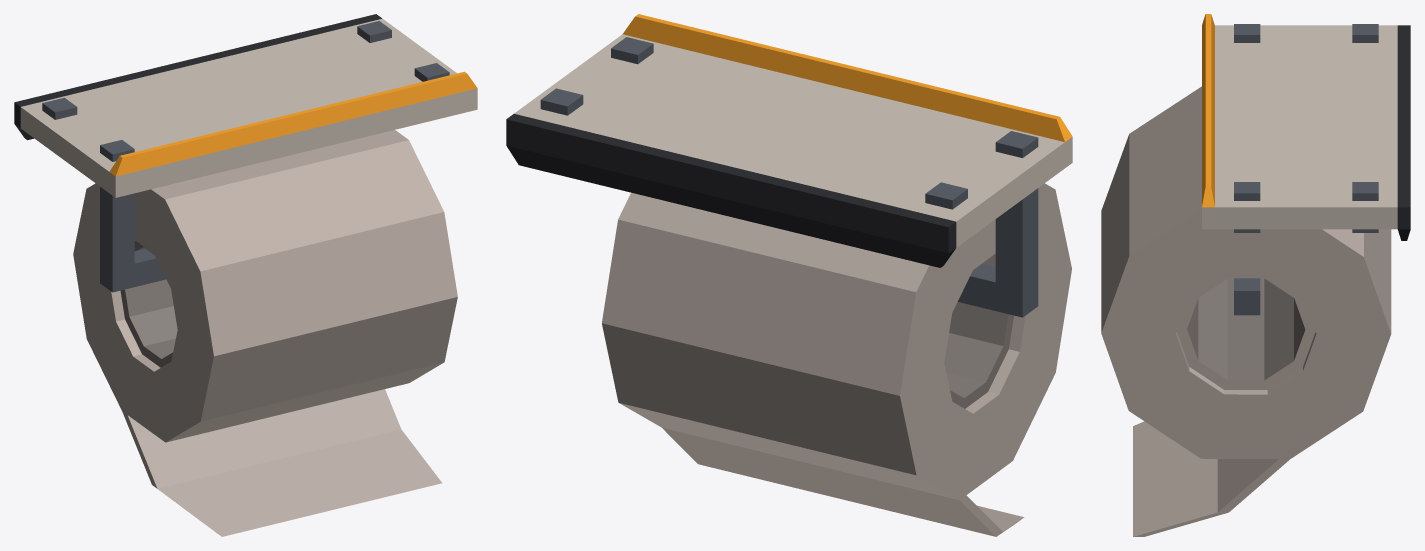
File: SM_Toilet_Paper_Holder.glb
3 renders of one model, left to right at view 1: azimuth 30°, elevation 25°; view 2: azimuth 150°, elevation 25°; view 3: azimuth 270°, elevation 25°, orthographic. The views are drawn at different scales.
Visible parts, largest first — view 1: SM_Toilet_Paper_Holder; view 2: SM_Toilet_Paper_Holder; view 3: SM_Toilet_Paper_Holder.
Boxes of the visible parts, box(x1,y1,x2,y2) form: SM_Toilet_Paper_Holder: box(14, 14, 477, 536); SM_Toilet_Paper_Holder: box(506, 14, 1072, 536); SM_Toilet_Paper_Holder: box(1101, 14, 1410, 536).
Bounding box in the file's own units: 0.1634 × 0.1591 × 0.1175.
Materials: 1 (1 with a texture image).
